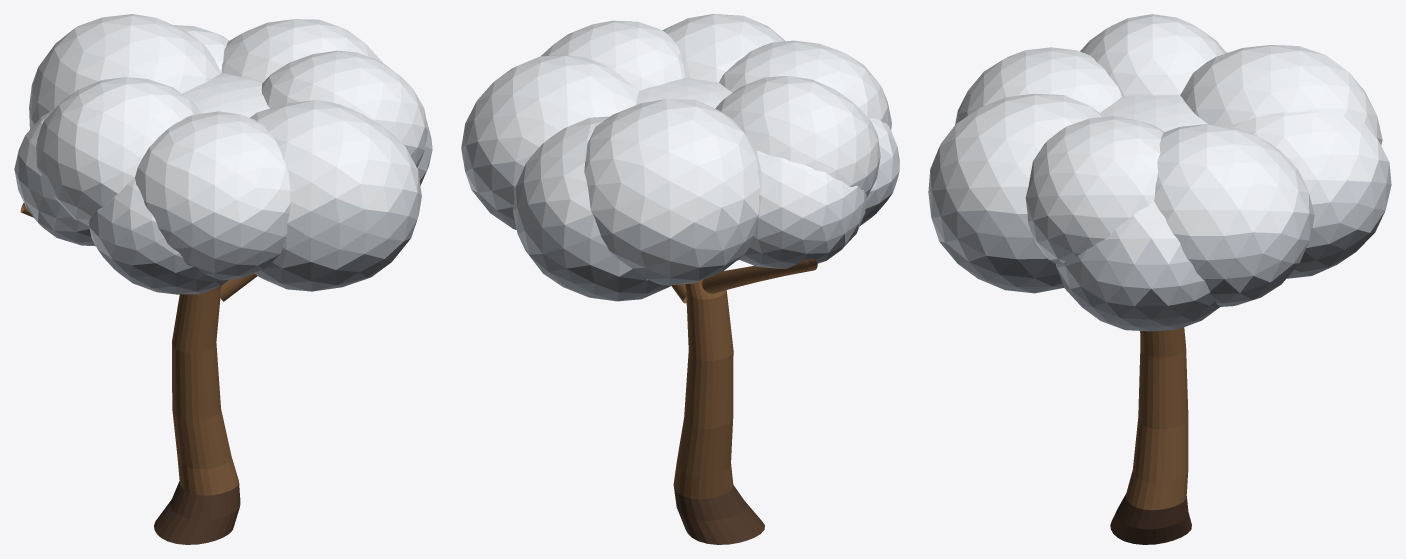
Rendered from BlossomTree.obj.
The picture shows the model from 3 angles, left to right: view 1: azimuth 30°, elevation 25°; view 2: azimuth 150°, elevation 25°; view 3: azimuth 270°, elevation 25°; orthographic projection. The views are drawn at different scales.
Size of the model in its own units: 8.19 by 9.55 by 8.5.
